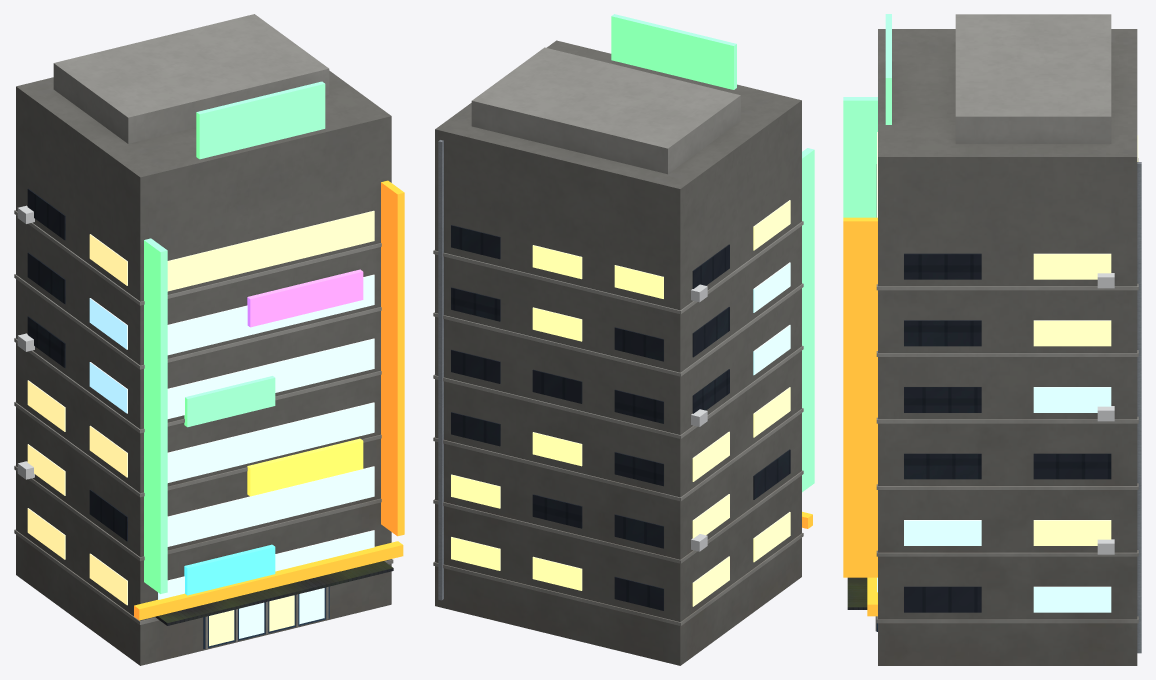
The model's file is neonhus_1_tex.glb.
3 renders of one model, left to right at view 1: azimuth 30°, elevation 25°; view 2: azimuth 150°, elevation 25°; view 3: azimuth 270°, elevation 25°, orthographic. The views are drawn at different scales.
Visible parts, largest first — view 1: neonhus_1; view 2: neonhus_1; view 3: neonhus_1.
Boxes of the visible parts, x1,y1,x2,y2 form: neonhus_1: (14, 14, 404, 665); neonhus_1: (433, 14, 814, 665); neonhus_1: (843, 14, 1141, 665).
Bounding box in the file's own units: 15 × 28.4 × 13.8.
14 materials, 6 textured.
